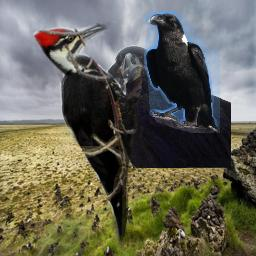Crow: (104, 45, 231, 168), (144, 11, 220, 133)
Woodpecker: (33, 21, 142, 255)
